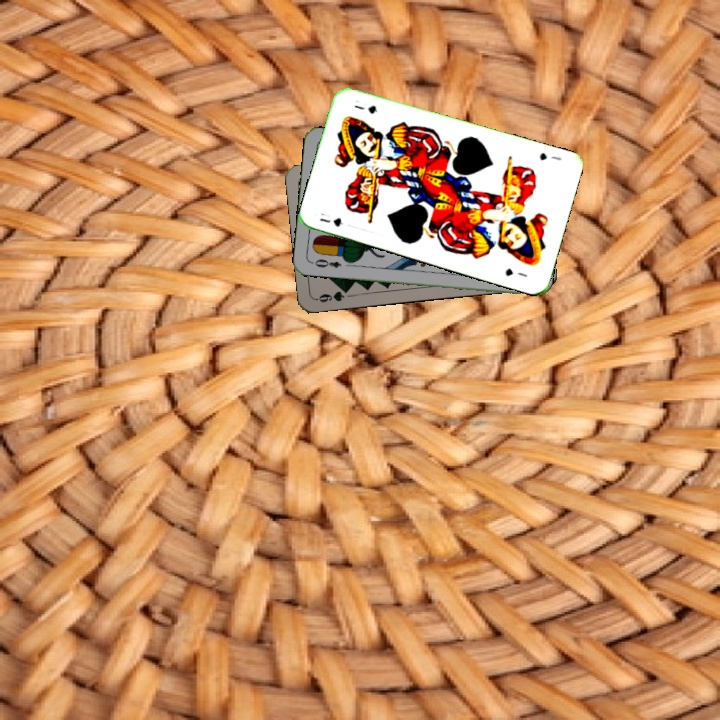EO: (308, 255, 344, 271)
G9: (312, 284, 352, 305)
GU: (316, 213, 345, 229), (535, 148, 564, 163)
